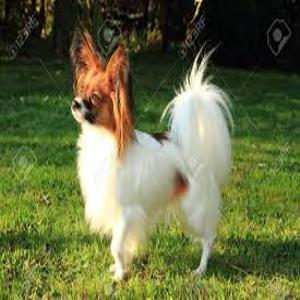yell: (68, 28, 234, 281)
